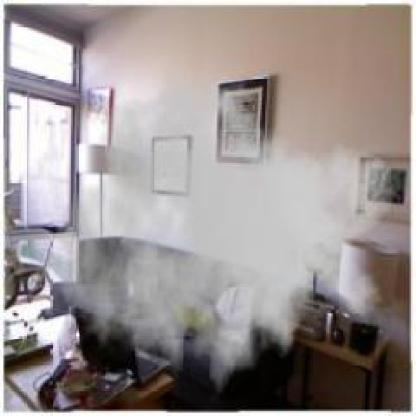Smoke: (54, 59, 395, 409)
